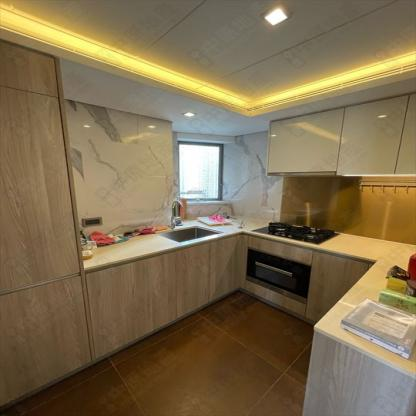Cupboard: (5, 233, 240, 404), (0, 40, 81, 294), (266, 92, 415, 174)
Exhaust Hood: (266, 171, 338, 176)
Faucet: (171, 197, 186, 226)
Oven: (245, 247, 313, 303)
Sink: (156, 225, 223, 242)
Stove: (251, 221, 339, 244)
